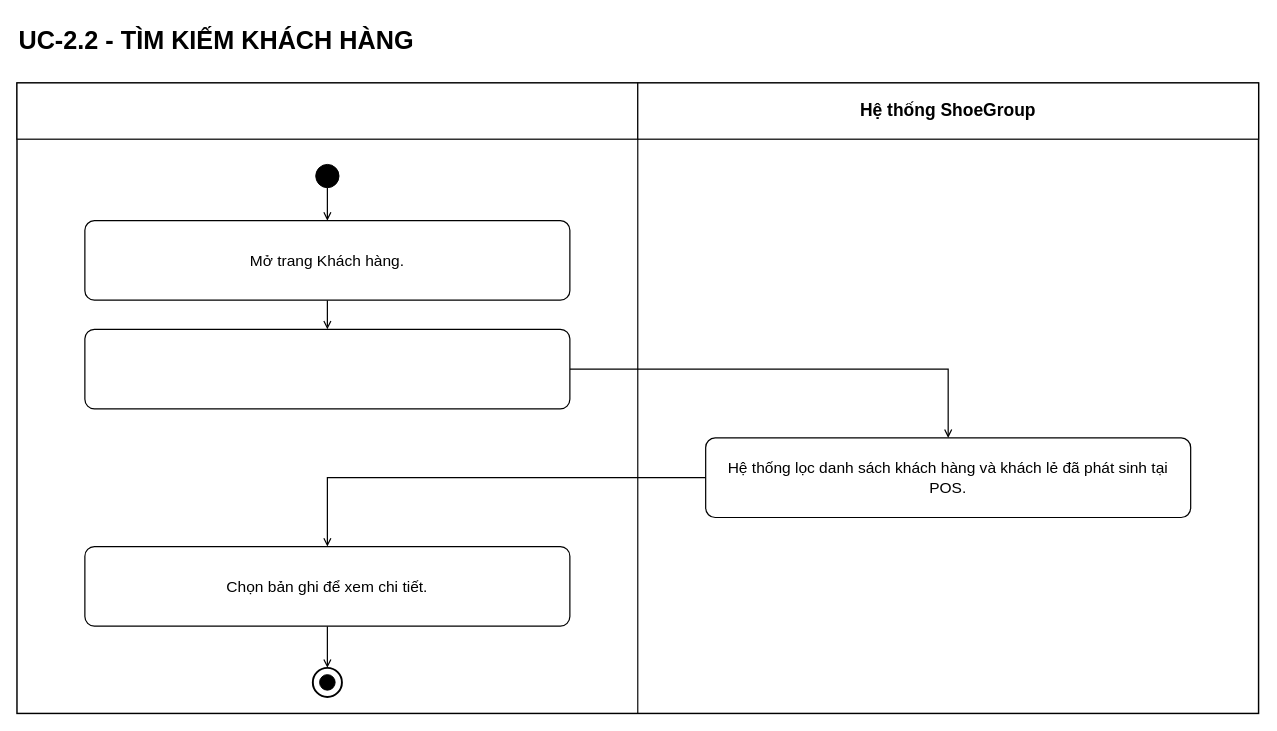
The diagram is 1277 pixels wide and 731 high, and some of its shapes have lost their labels. The shapes that lost their labels are listed below. From the top down, each one's centre as x and y in pixels, then its label:
At (x=327, y=110): "Quản trị viên".
At (x=327, y=368): "Nhập từ khóa tìm kiếm.".
